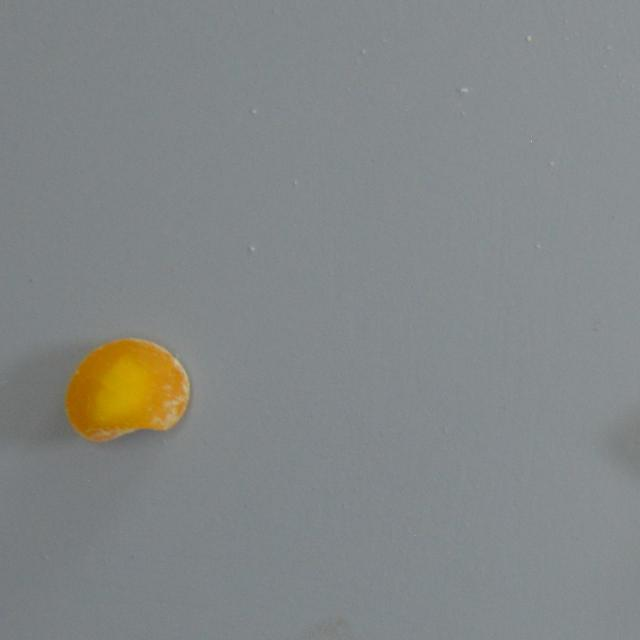pelicula: (63, 336, 190, 444)
